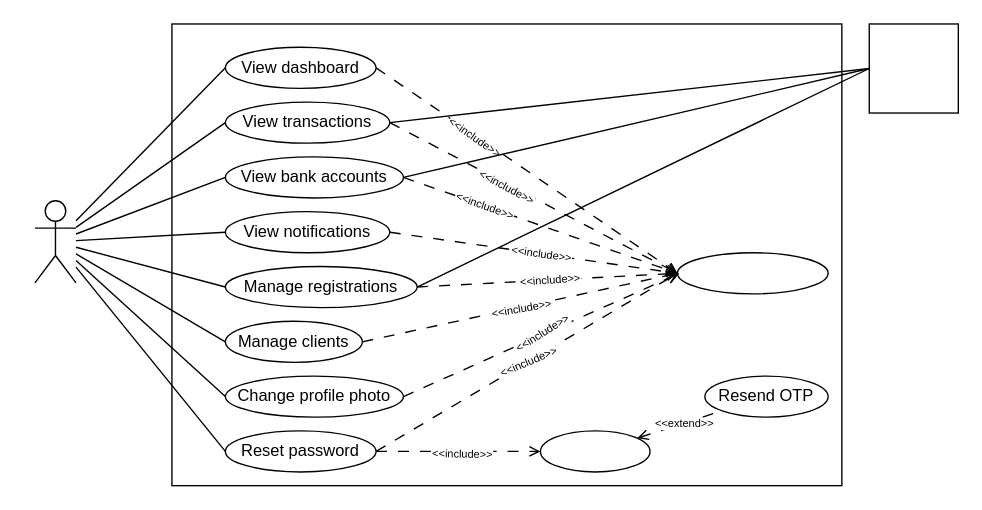
The diagram is 982 pixels wide and 510 high, and some of its shapes have lost their labels. The centre of each missing label's shape, as x and y in pixels:
"Admin" belongs at (x=55, y=241).
"Authenticate" belongs at (x=752, y=272).
"Centralized CBS" belongs at (x=913, y=68).
"Verify OTP" belongs at (x=594, y=450).
